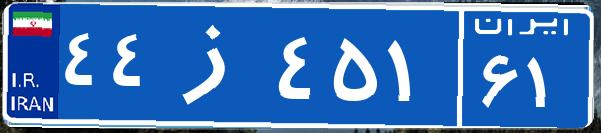1: (385, 28, 445, 110), (525, 38, 570, 115)
4: (273, 28, 330, 110), (57, 26, 110, 107), (110, 28, 158, 105)
5: (330, 28, 385, 110)
6: (475, 38, 525, 113)
ز: (158, 15, 273, 115)
